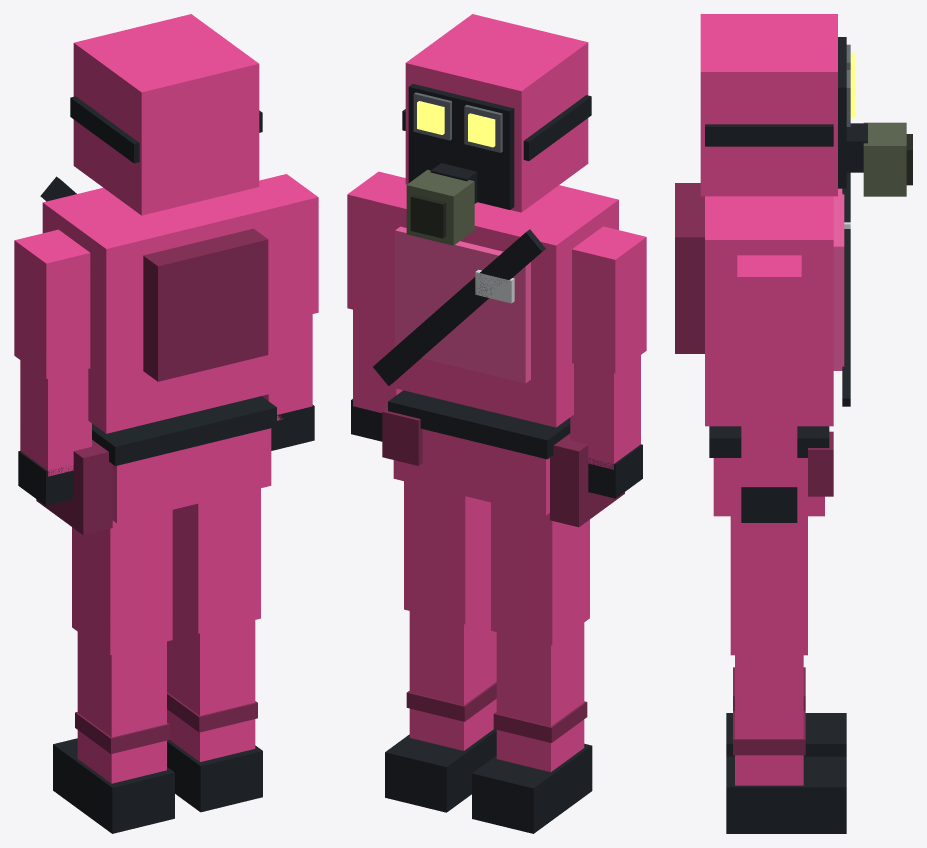
Rendered from gas_mask_hot_pink.glb.
3 views of the same model, side by side, from view 1: azimuth 30°, elevation 25°; view 2: azimuth 150°, elevation 25°; view 3: azimuth 270°, elevation 25° (orthographic). The views are drawn at different scales.
Parts seen in each view (by area): view 1: Merged4, Merged, Merged7, Merged5, Merged6, _MeshInstance3D_1545, _MeshInstance3D_1556, _MeshInstance3D_1540, Merged2, _MeshInstance3D_1551, Merged3; view 2: Merged4, Merged, Merged7, Merged5, Merged6, _MeshInstance3D_1545, _MeshInstance3D_1556, _MeshInstance3D_1540, Merged2, _MeshInstance3D_1551, Merged3; view 3: Merged, Merged4, Merged6, _MeshInstance3D_1556, _MeshInstance3D_1551, Merged3, Merged7, Merged5.
Boxes of the visible parts, left/top/right/bottom form: Merged4: left=40, top=176, right=290, bottom=433; Merged: left=70, top=14, right=262, bottom=215; Merged7: left=36, top=396, right=276, bottom=534; Merged5: left=53, top=632, right=174, bottom=833; Merged6: left=167, top=615, right=262, bottom=812; _MeshInstance3D_1545: left=72, top=510, right=172, bottom=655; _MeshInstance3D_1556: left=172, top=488, right=260, bottom=633; _MeshInstance3D_1540: left=14, top=229, right=90, bottom=378; Merged2: left=18, top=360, right=91, bottom=505; _MeshInstance3D_1551: left=259, top=174, right=318, bottom=319; Merged3: left=262, top=314, right=314, bottom=450; Merged4: left=373, top=179, right=618, bottom=427; Merged: left=402, top=14, right=591, bottom=245; Merged7: left=382, top=390, right=624, bottom=527; Merged5: left=472, top=623, right=592, bottom=833; Merged6: left=385, top=606, right=496, bottom=812; _MeshInstance3D_1545: left=491, top=502, right=589, bottom=645; _MeshInstance3D_1556: left=404, top=481, right=490, bottom=624; _MeshInstance3D_1540: left=572, top=226, right=646, bottom=373; Merged2: left=570, top=355, right=642, bottom=498; _MeshInstance3D_1551: left=347, top=171, right=405, bottom=314; Merged3: left=351, top=309, right=402, bottom=441; Merged: left=700, top=14, right=912, bottom=196; Merged4: left=675, top=172, right=850, bottom=426; Merged6: left=726, top=655, right=846, bottom=833; _MeshInstance3D_1556: left=730, top=516, right=807, bottom=655; _MeshInstance3D_1551: left=737, top=255, right=801, bottom=393; Merged3: left=741, top=393, right=797, bottom=522; Merged7: left=709, top=426, right=833, bottom=516; Merged5: left=726, top=667, right=846, bottom=756.
Bounding box in the file's own units: 0.74 × 1.94 × 0.555.
